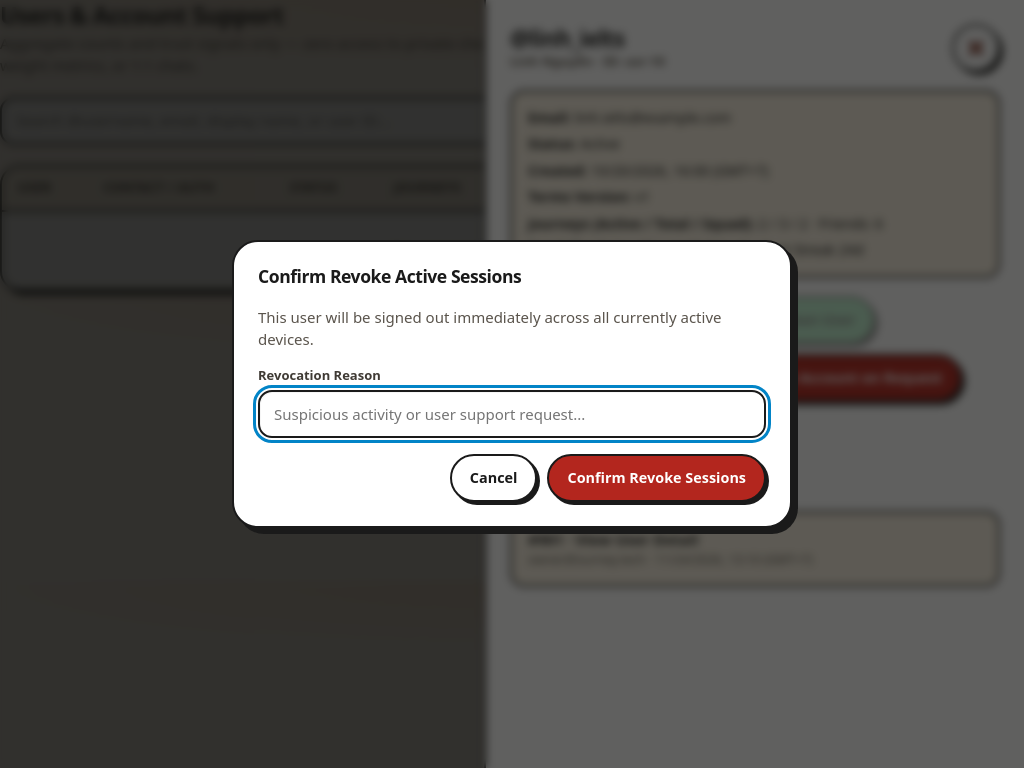
Scenario: UsersPage & Moderation State Gating (UX-28) › renders empty state row when listUsers returns 0 items and renders modal RPC errors inside the open modal dialog (F-42)
Earlier steps of the test are not shown.
Later steps or results of the test are not shown.
Press the mouse on the button "Confirm Revoke Sessions" at (657, 478), box [548,454,766,502]
Press the mouse on the button "Confirm Revoke Sessions" at (657, 478), box [548,454,766,502]
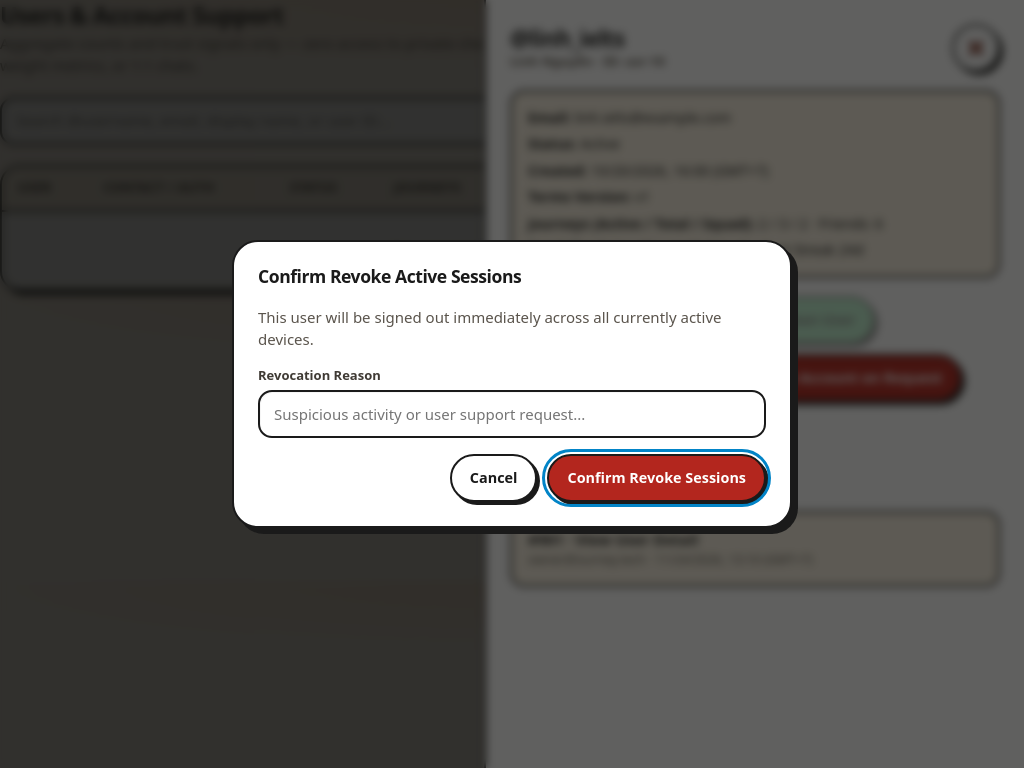
Click the button "Confirm Revoke Sessions".
click(657, 478)  # box [548,454,766,502]
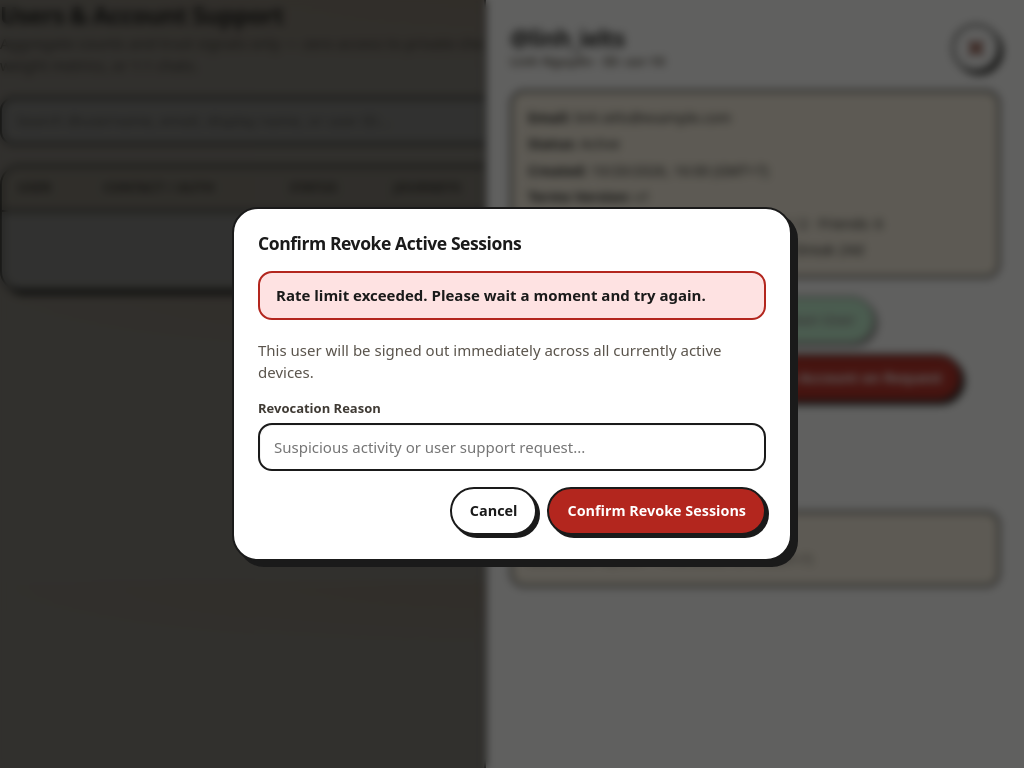
Check: the dialog "Confirm Revoke Active Sessions" shows "Rate limit exceeded", box [276,285,706,305]
